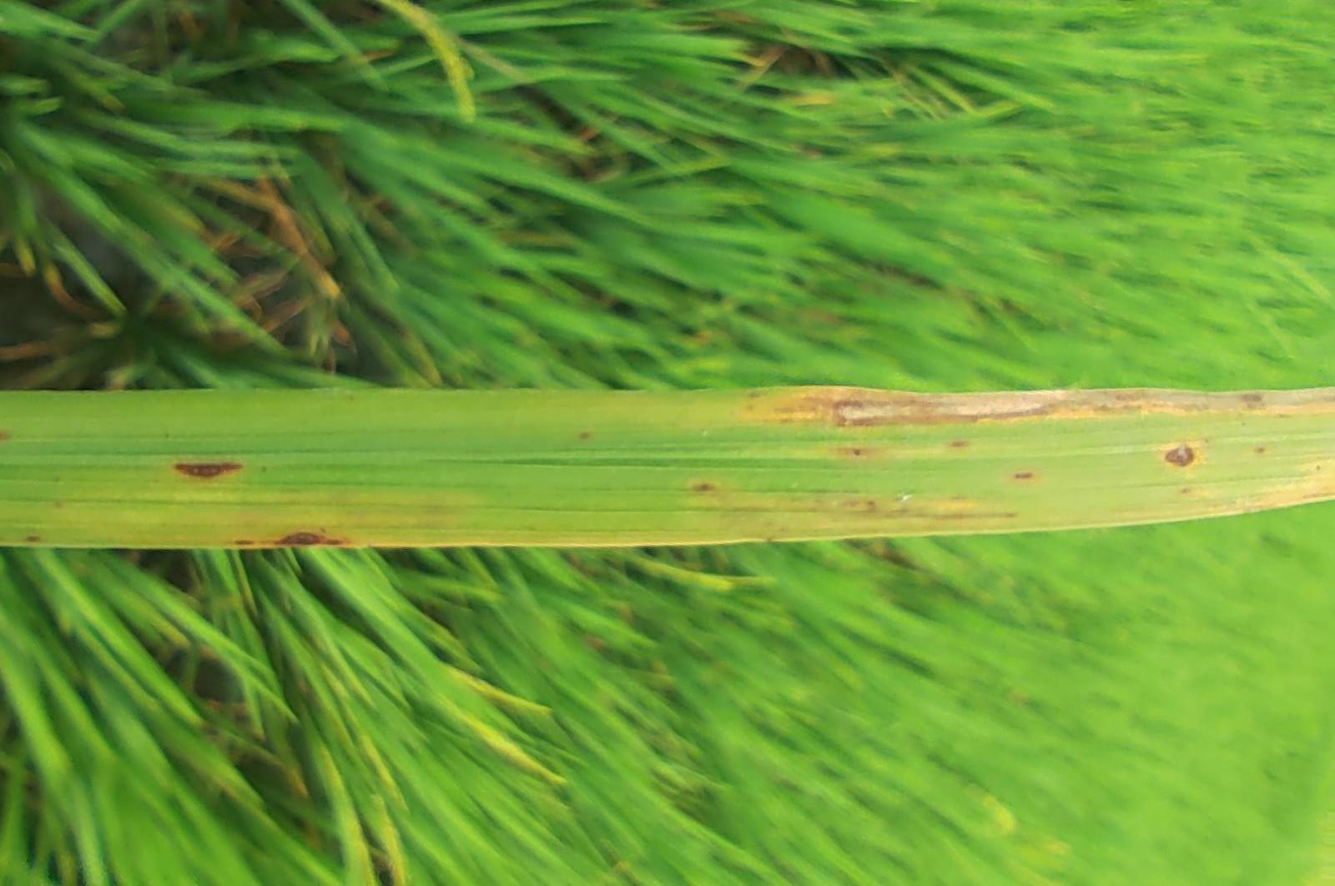LEAF: (0, 386, 1334, 549)
LEAF BLAST: (827, 387, 1334, 428), (172, 463, 244, 479), (272, 531, 351, 545), (1164, 443, 1197, 468)
